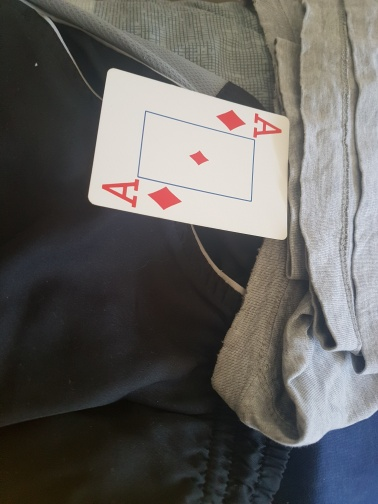ace: (89, 67, 291, 241)
